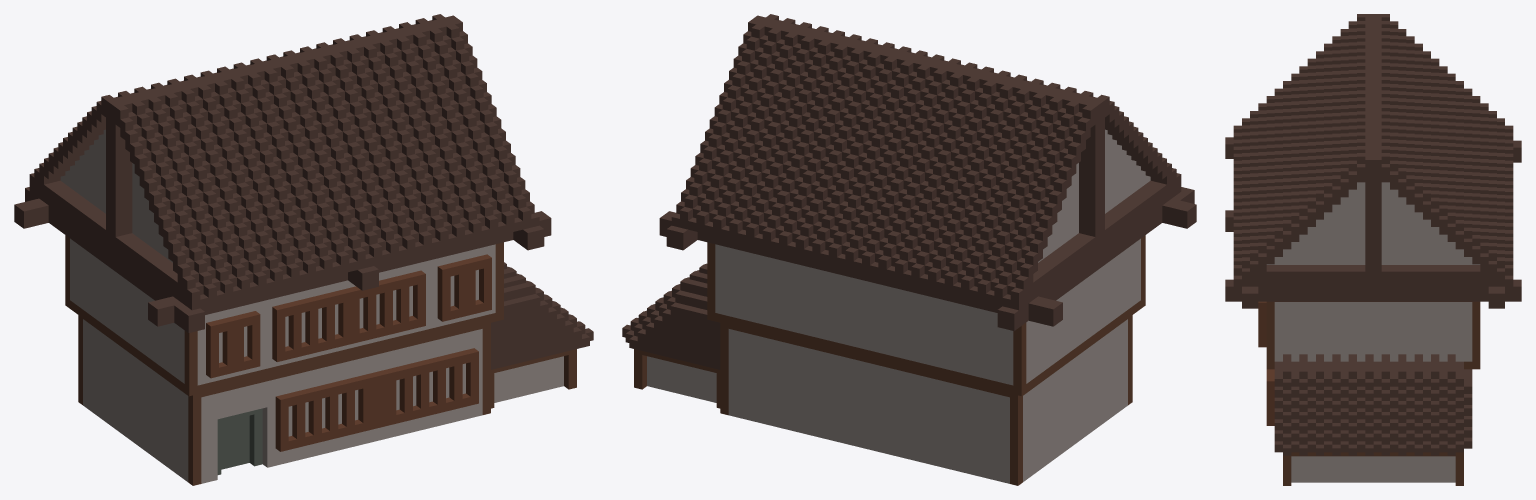
File: house4.obj
The picture shows the model from 3 angles, left to right: view 1: azimuth 30°, elevation 25°; view 2: azimuth 150°, elevation 25°; view 3: azimuth 270°, elevation 25°; orthographic projection. The views are drawn at different scales.
Bounding box in the file's own units: 5.5 × 4 × 3.6.
Materials: 1 (1 with a texture image).
